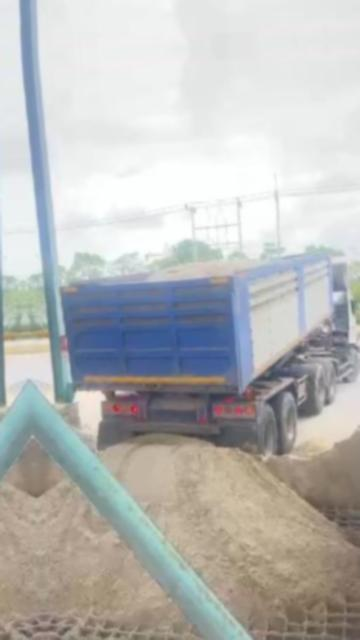sand: (102, 436, 360, 622), (38, 481, 179, 622), (264, 418, 360, 509), (140, 258, 268, 281), (32, 436, 62, 497), (74, 427, 95, 450)
